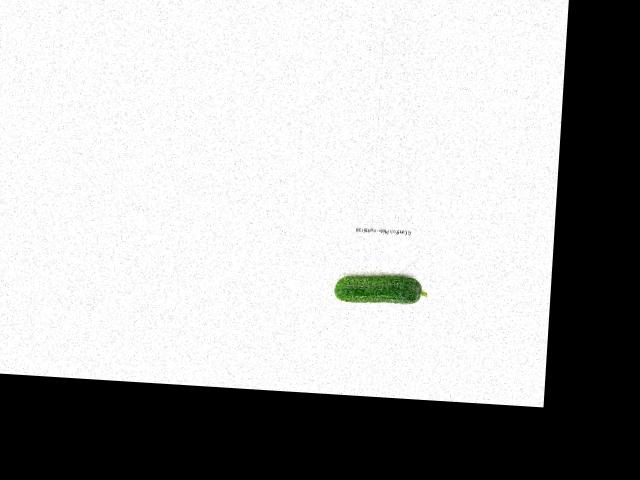cucumber: (332, 271, 428, 306)
